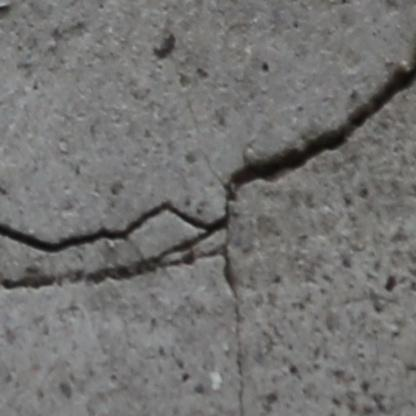Cracks: (0, 199, 249, 416), (227, 4, 416, 194)
